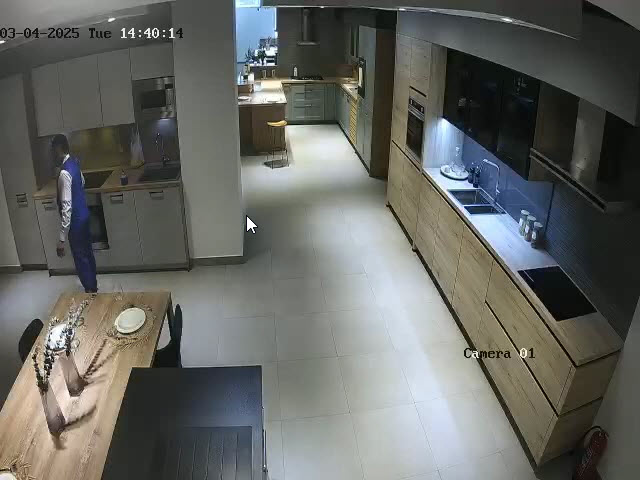employee: (49, 134, 99, 294)
